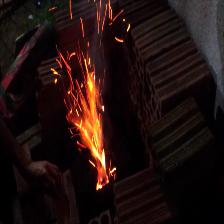fire: (44, 30, 126, 201)
